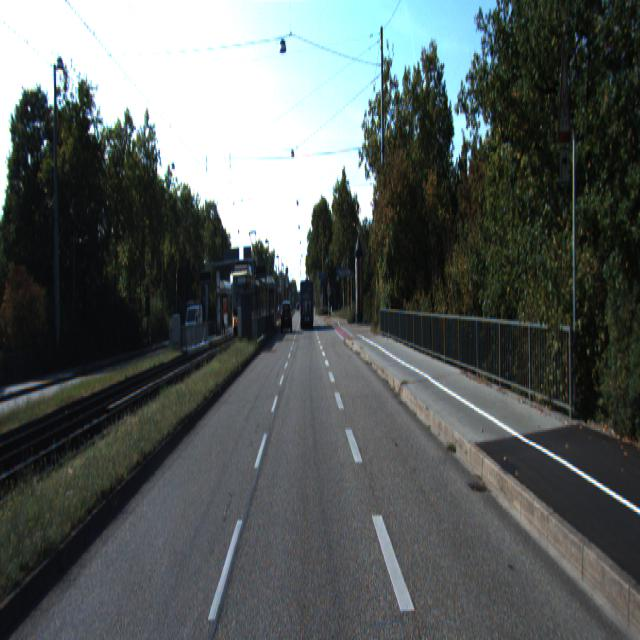Car: (230, 267, 264, 342), (184, 306, 204, 346), (300, 278, 314, 329), (281, 302, 292, 335)
